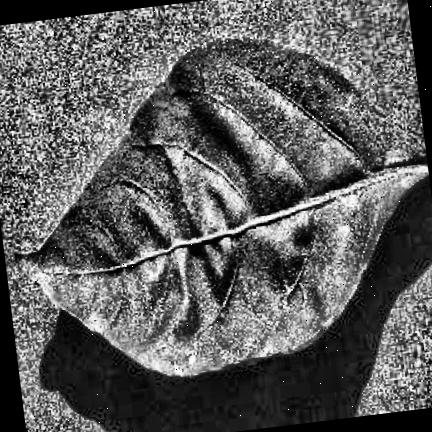leaf: (17, 39, 429, 377)
